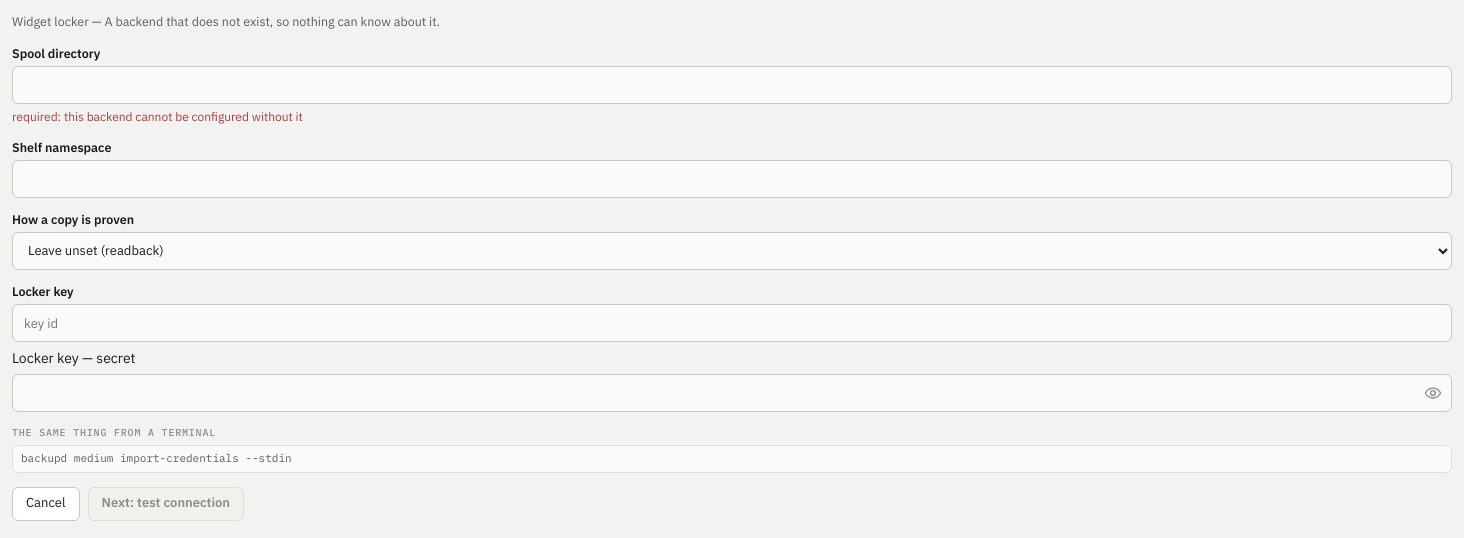
Test case: the fields step › will not go on to the check while a declared field is wrong
Expected: the element with test id "manifest-field-row-path" is shown, [12,44,1452,126]
Expected: the button "Next: test connection" is disabled, [88,487,244,521]
Type "lockers" into the field with test id "manifest-field-control" showing "Spool directory" at [732, 85], box [12,66,1452,104]
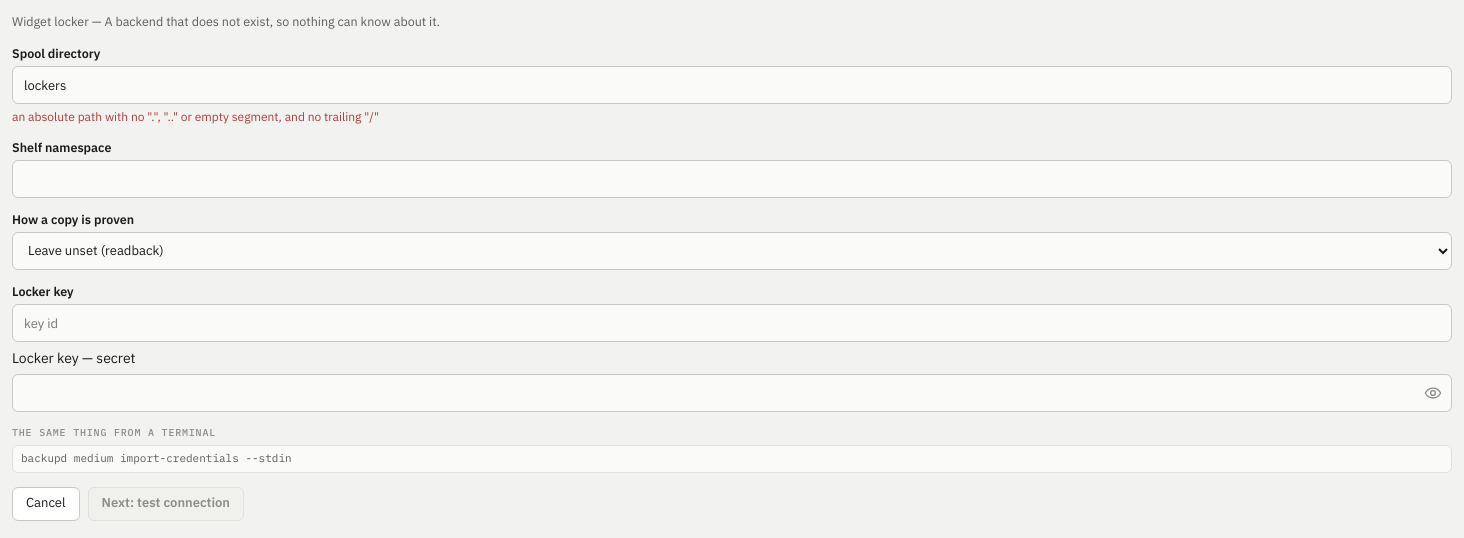
Type "EXAMPLE-NOT-A-REAL-KEY" into the field labelled "Locker key" at [732, 323], box [12,304,1452,342]
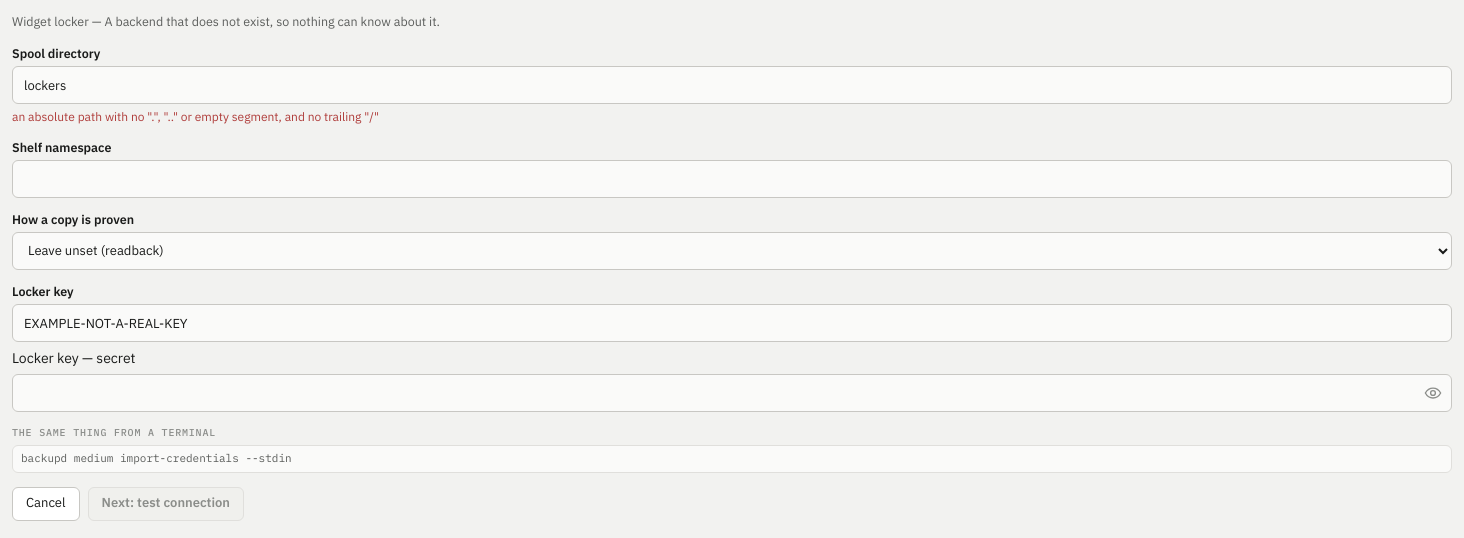
Expected: the button "Next: test connection" is disabled, [88,487,244,521]
Expected: the message "an absolute path with no \".\", \"..\" or empty segment, and no trailing \"/\"" is shown, [12,109,379,124]
Replace the text in the field with test id "manifest-field-control" showing "Spool directory" with "/mnt/lockers" at [732, 85], box [12,66,1452,104]
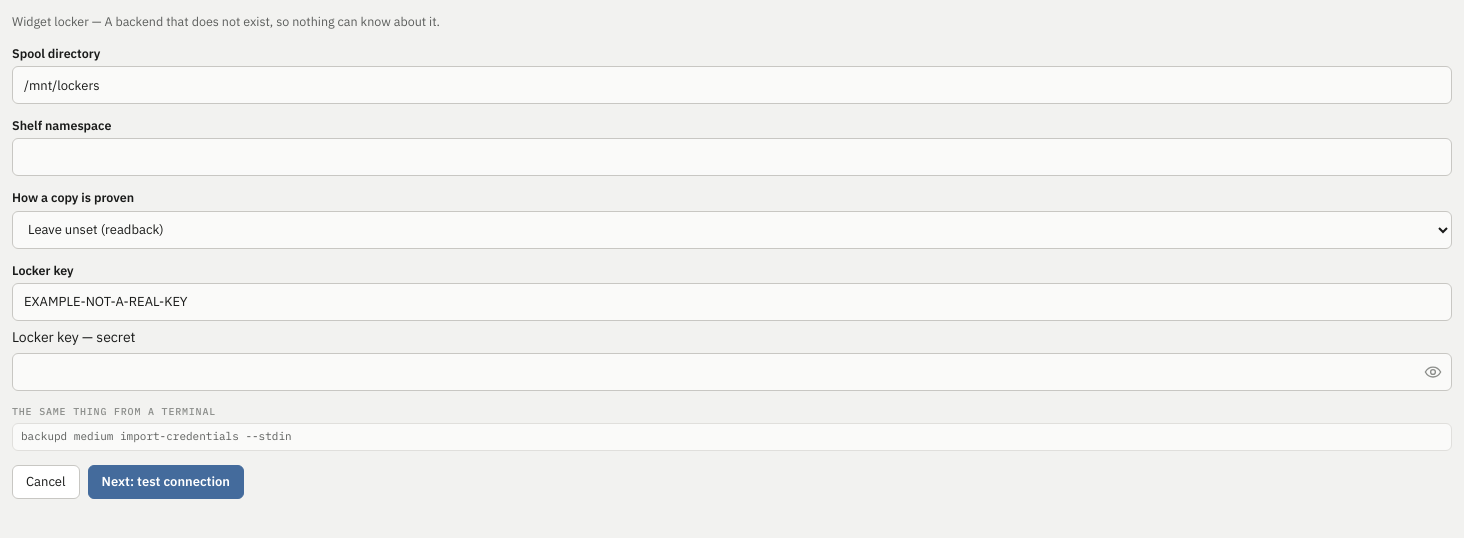
Expected: the button "Next: test connection" is enabled, [88,465,244,499]
